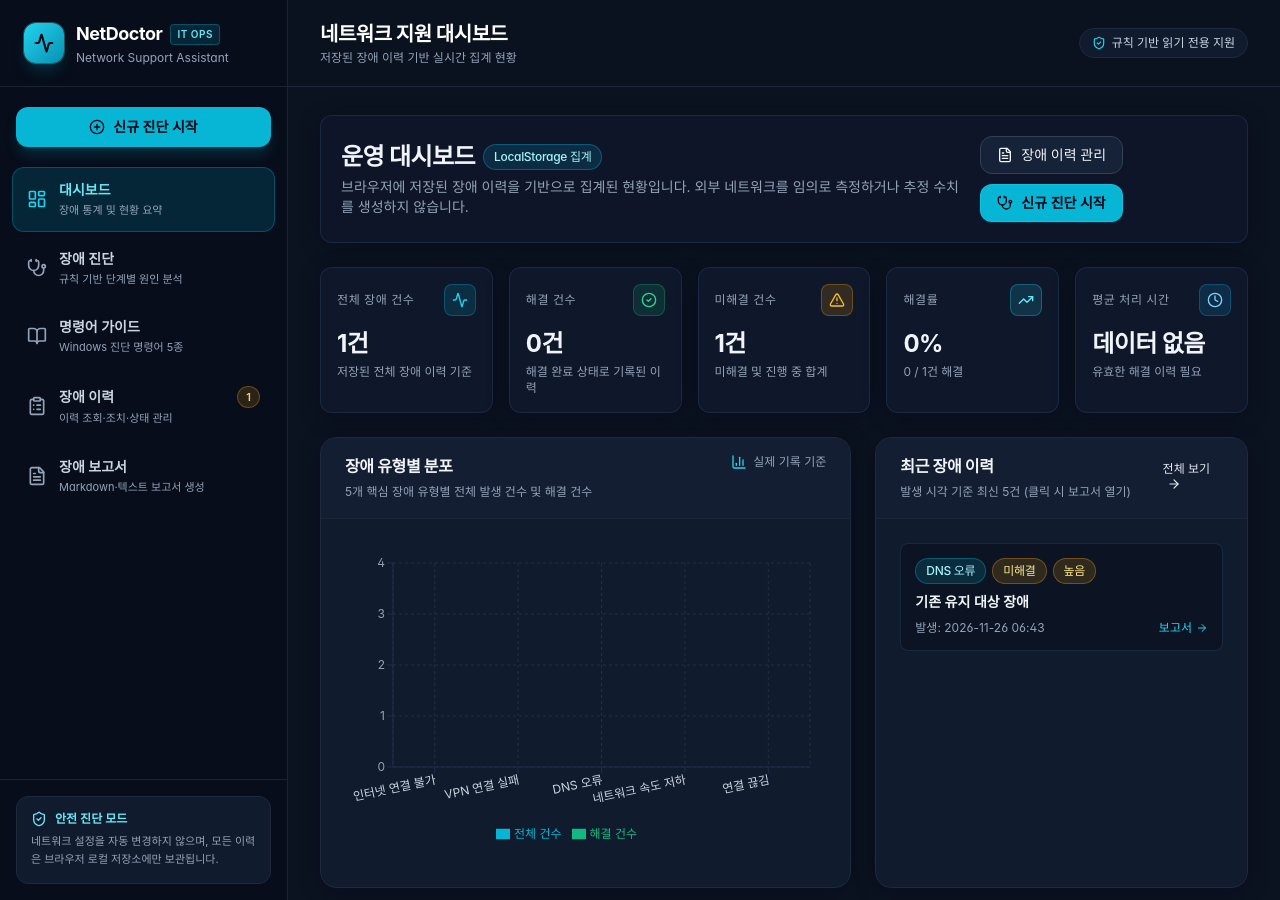
Test: LocalStorage failure resilience & error UX › UI integration tests under QuotaExceededError › HistoryPage: manual create fails cleanly on QuotaExceededError, keeps modal open, shows error alert, and preserves existing records
This screenshot has width=1280, height=900.
Click the button "장애 이력 1 이력 조회·조치·상태 관리" at (87,396), box [12, 372, 275, 440]
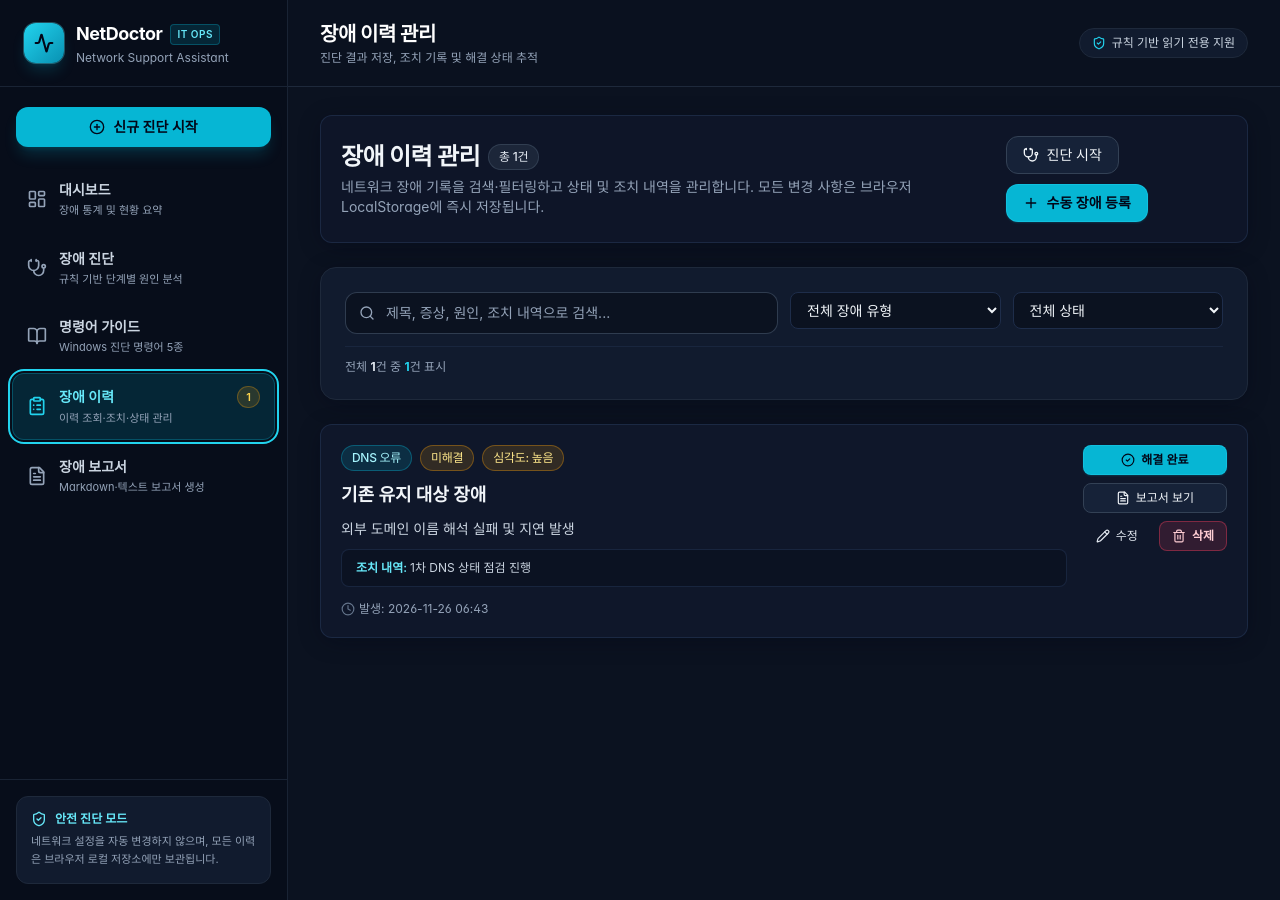
Click the button "수동 장애 등록" at (1077,203), box [1006, 184, 1148, 222]
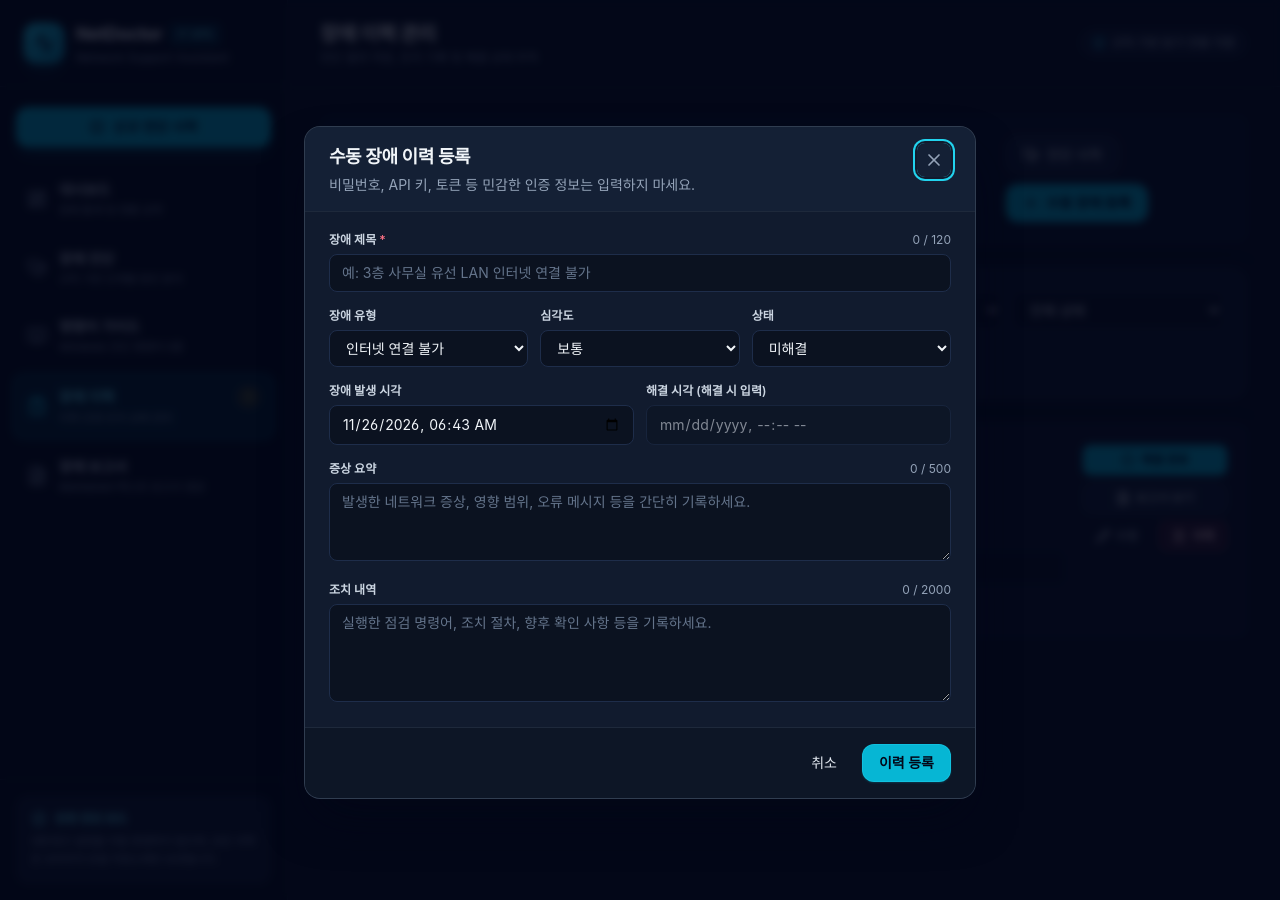
Type "저장 실패 신규 장애" into the field labelled "장애 제목 *" at (640,272), box [329, 254, 951, 292]
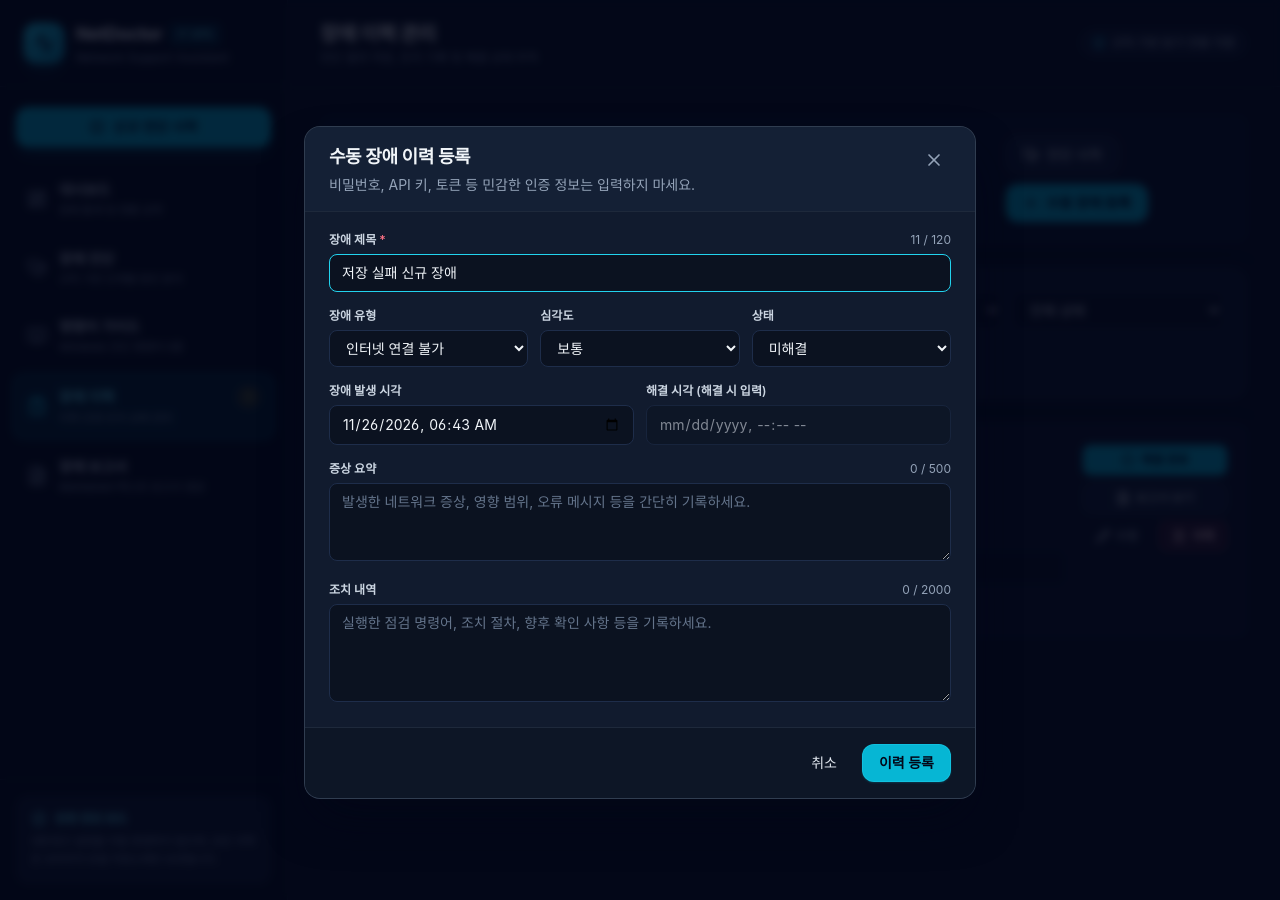
Type "게이트웨이 연결 불가" into the text box labelled "증상 요약" at (640,522), box [329, 482, 951, 560]
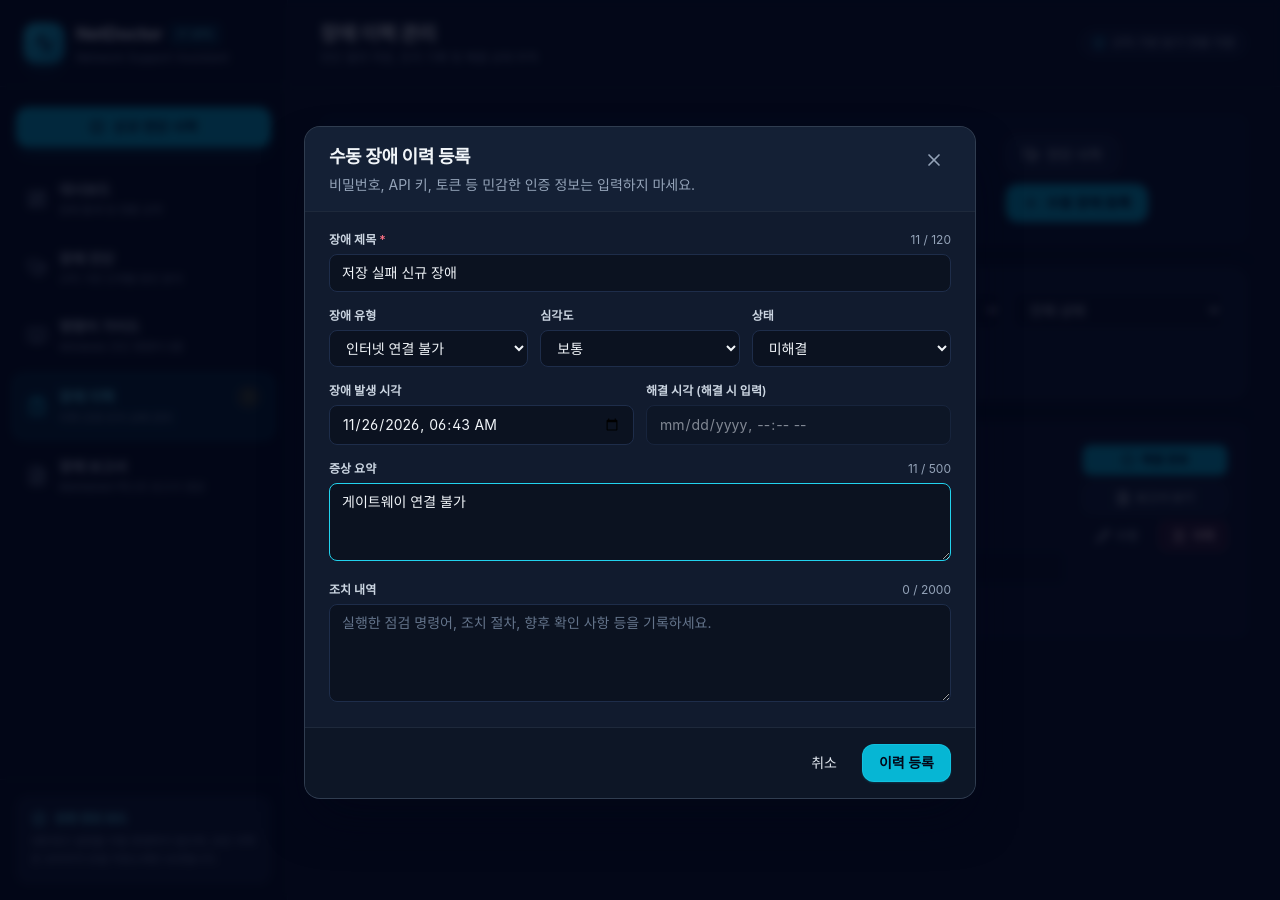
Click the button "이력 등록" at (906,762), box [862, 744, 951, 782]
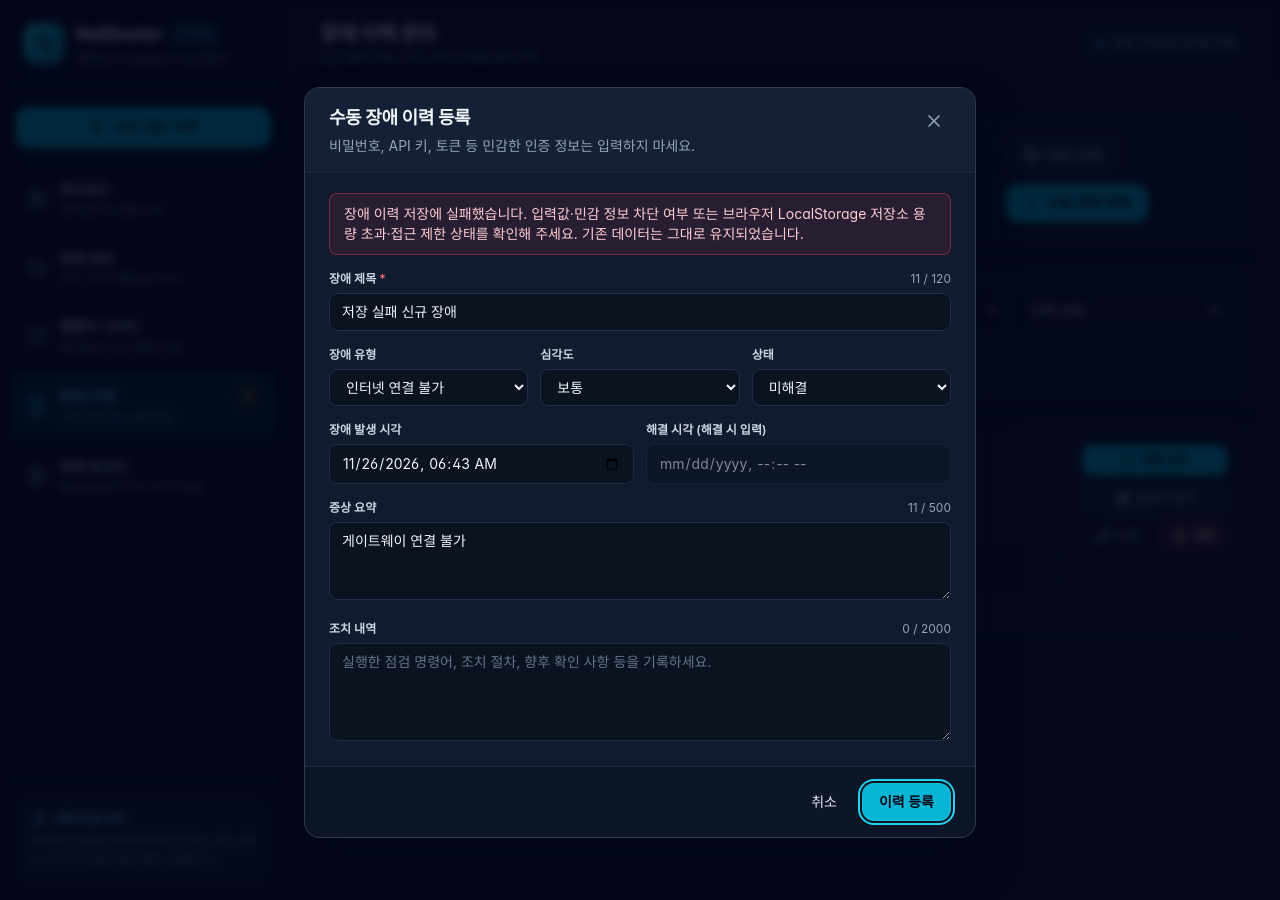
Result: the dialog is shown at [304, 86, 976, 838]
Result: the message shows "저장에 실패했습니다" at [344, 204, 926, 242]
Result: the message shows "LocalStorage" at [344, 204, 926, 242]
